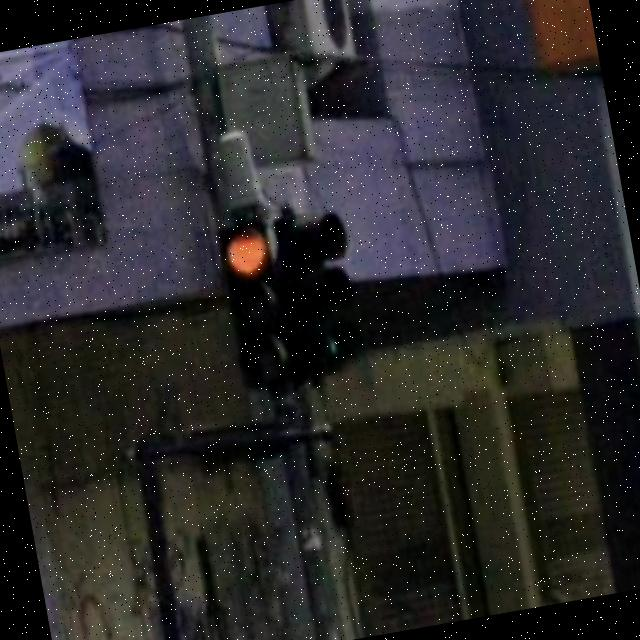Czerwone swiatlo: (216, 219, 299, 389)
